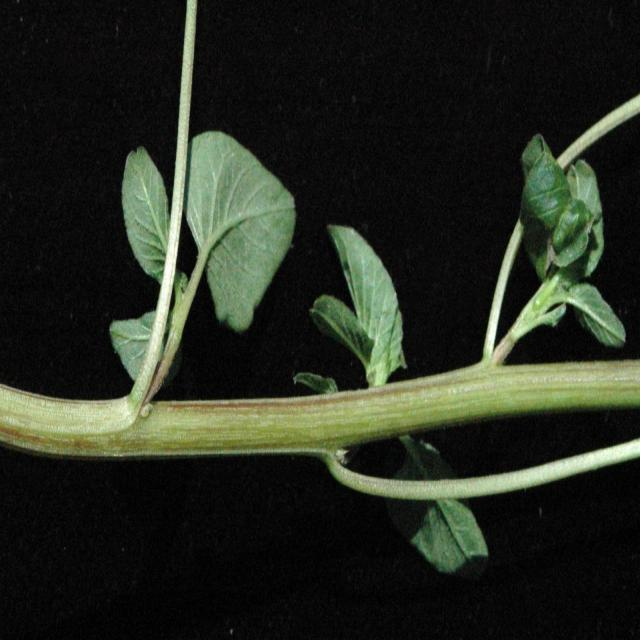Medicinal-Arive Dantu: (107, 125, 305, 382), (315, 230, 417, 386)
